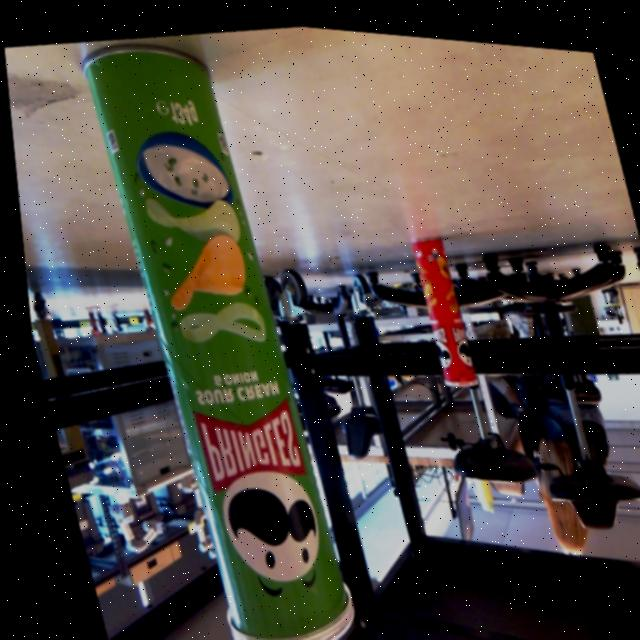greenpringles: (59, 15, 379, 640)
redpringles: (387, 217, 490, 398)
